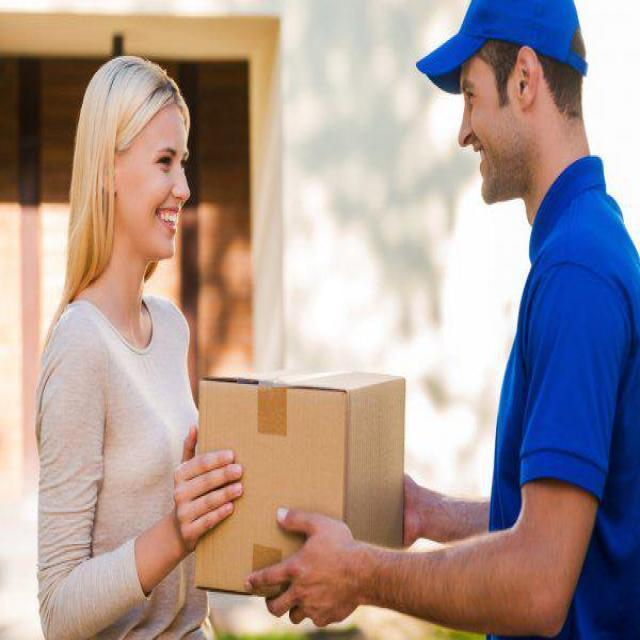box: (183, 354, 416, 610)
